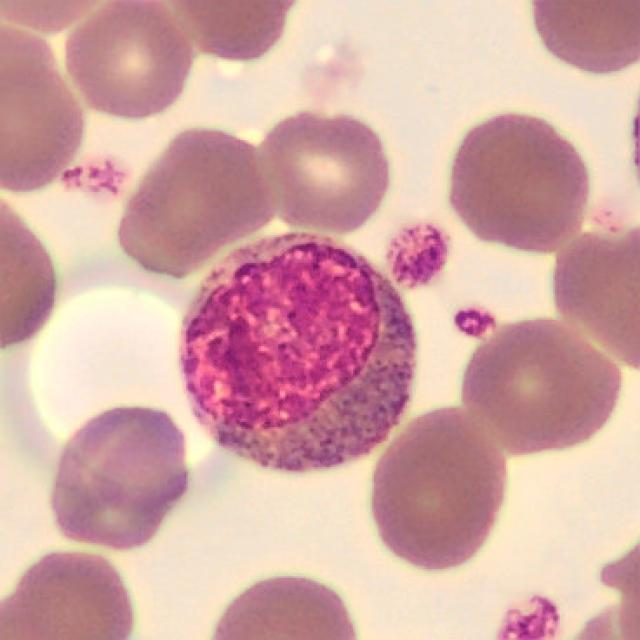Mielocito: (181, 234, 414, 469)
